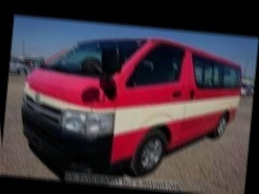van: (13, 25, 242, 185)
